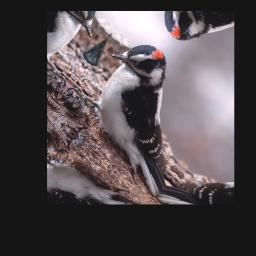Woodpecker: (60, 23, 229, 198)
